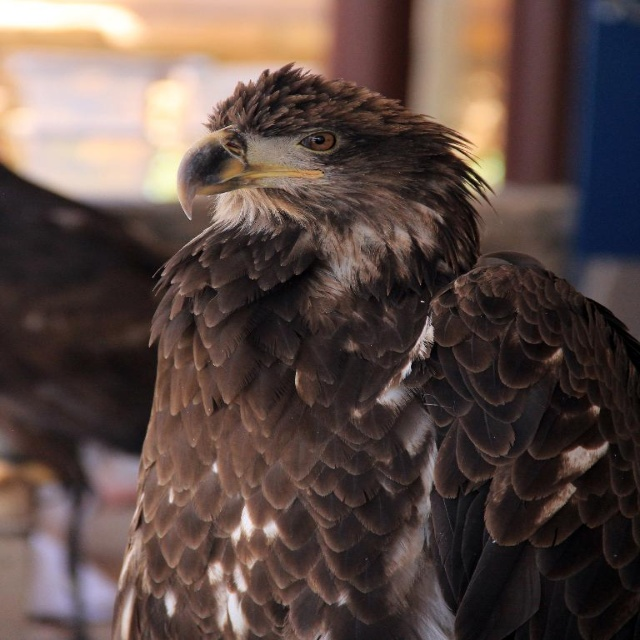Eagle: (112, 63, 639, 640)
